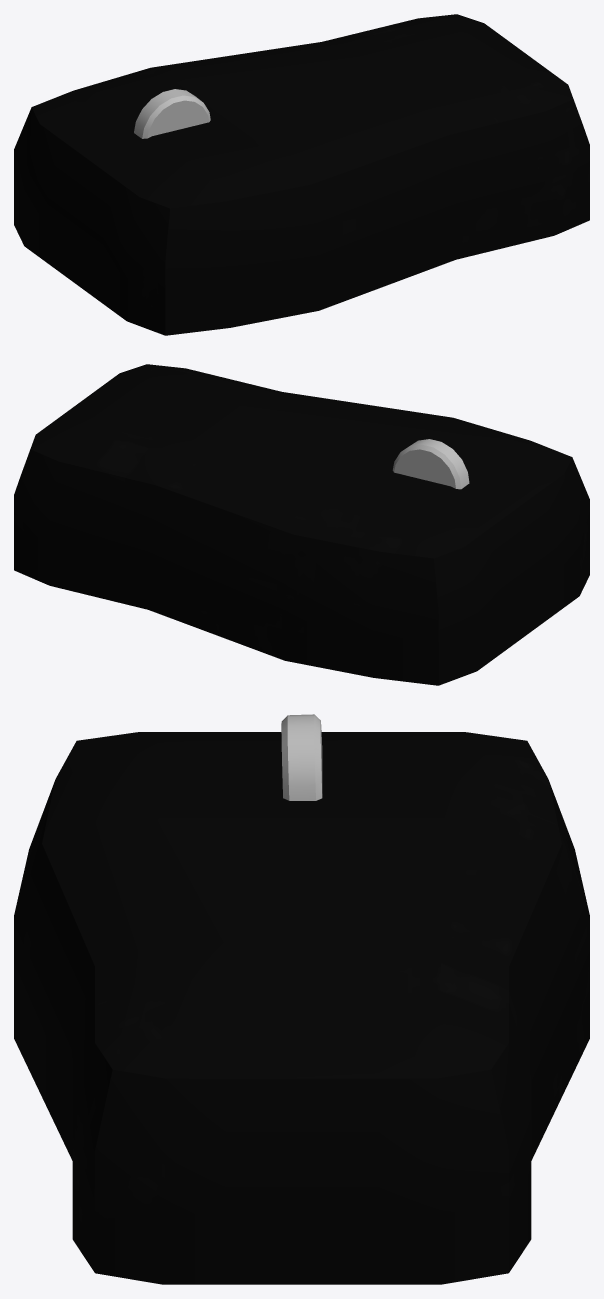
Rendered from GamingMouse.fbx.
The picture shows the model from 3 angles, top to bottom: view 1: azimuth 30°, elevation 25°; view 2: azimuth 150°, elevation 25°; view 3: azimuth 270°, elevation 25°; orthographic projection. The views are drawn at different scales.
Visible parts, largest first — view 1: Computer Muis; view 2: Computer Muis; view 3: Computer Muis.
Part boxes in pixels (x1,y1,x2,y2): Computer Muis: (14,14,589,335); Computer Muis: (14,364,589,685); Computer Muis: (14,714,589,1284).
Size of the model in its own units: 7.99 by 2.74 by 5.27.
